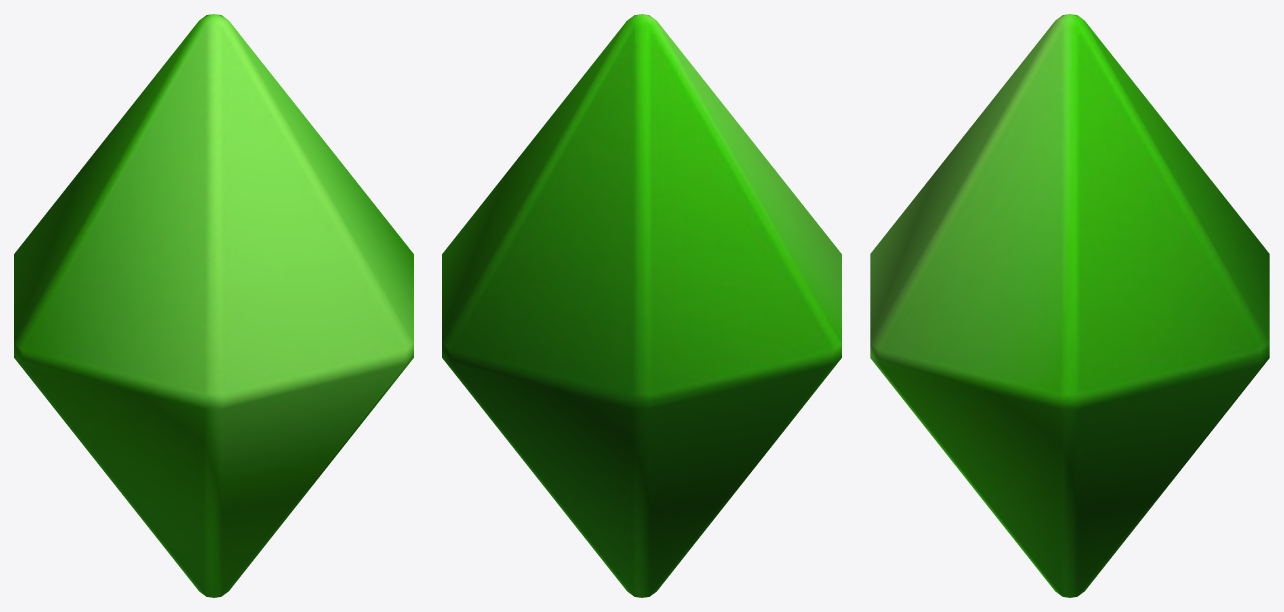
File: gem-green.glb
The picture shows the model from 3 angles, left to right: view 1: azimuth 30°, elevation 25°; view 2: azimuth 150°, elevation 25°; view 3: azimuth 270°, elevation 25°; orthographic projection.
Bounding box in the file's own units: 1 × 1.43 × 0.885.
Materials: 1 (1 with a texture image).
